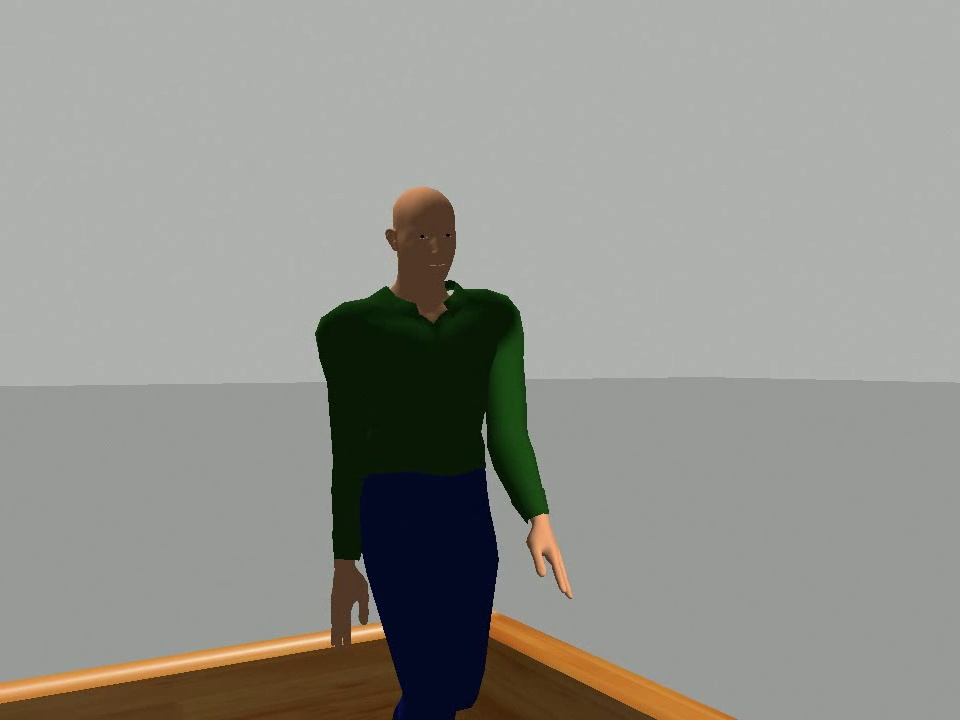person: (313, 182, 579, 720)
